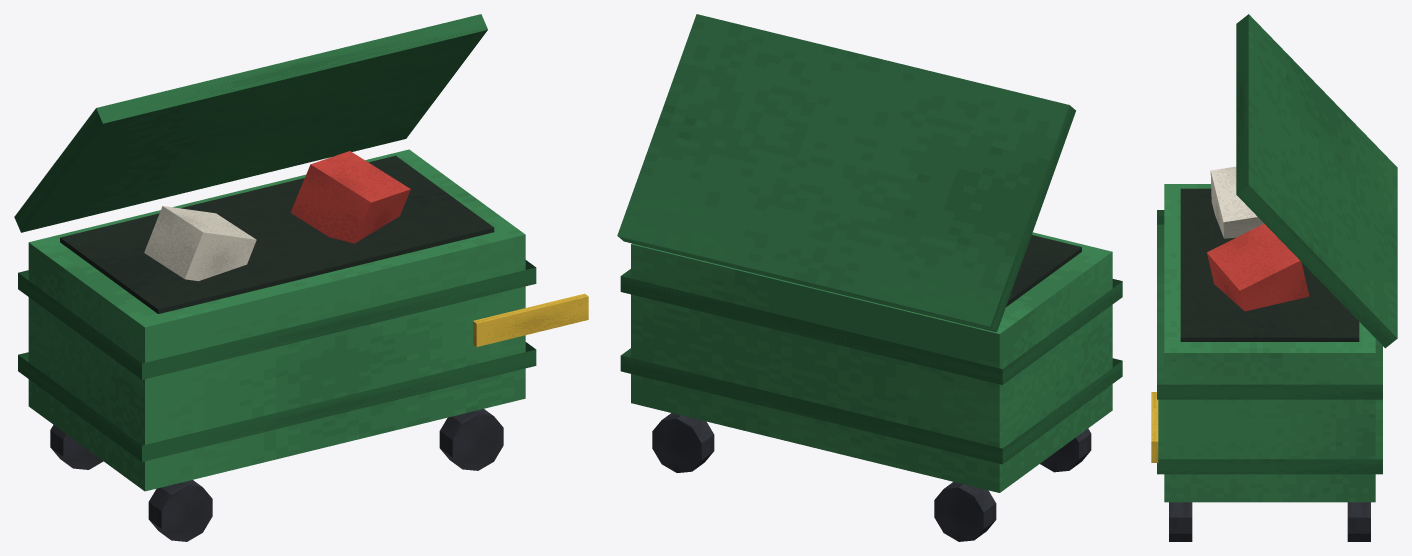
Rendered from prop_dumpster.glb.
3 views of the same model, side by side, from view 1: azimuth 30°, elevation 25°; view 2: azimuth 150°, elevation 25°; view 3: azimuth 270°, elevation 25° (orthographic). The views are drawn at different scales.
Visible parts, largest first — view 1: prop_dumpster; view 2: prop_dumpster; view 3: prop_dumpster.
Boxes of the visible parts, bbox=[...] form: prop_dumpster: bbox=[14, 14, 588, 541]; prop_dumpster: bbox=[617, 14, 1122, 541]; prop_dumpster: bbox=[1151, 14, 1397, 541].
Size of the model in its own units: 1.98 by 1.76 by 1.05.
Materials: 1 (1 with a texture image).
